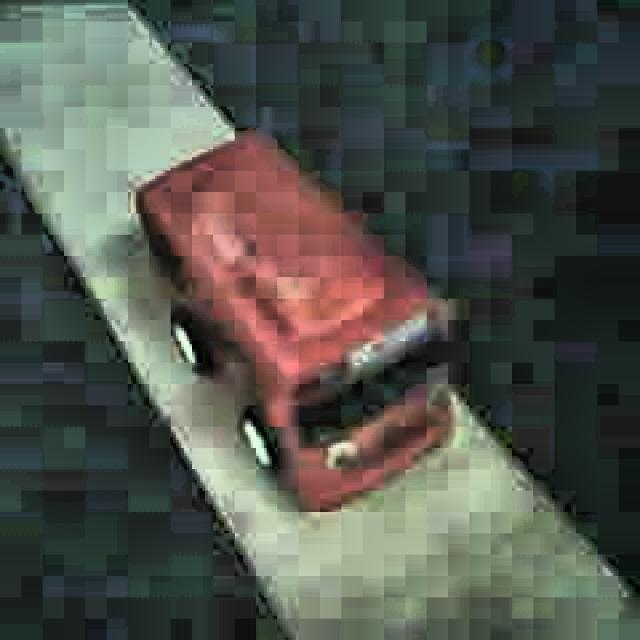bus: (136, 126, 457, 517)
